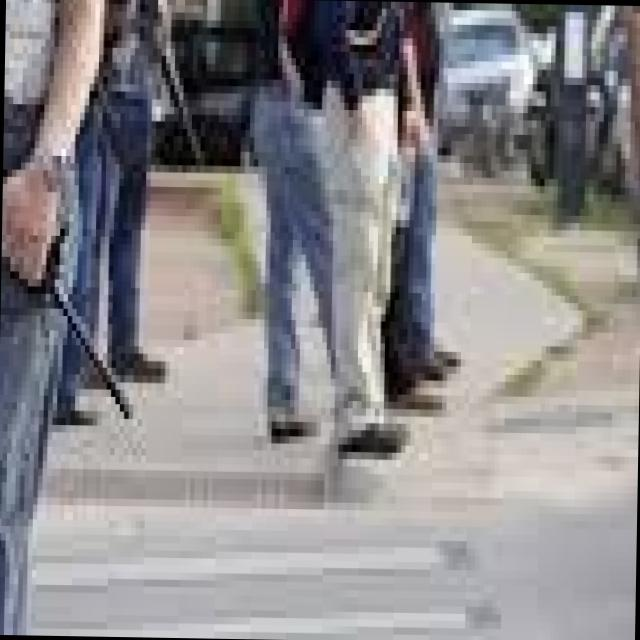Guns: (1, 145, 172, 473)
